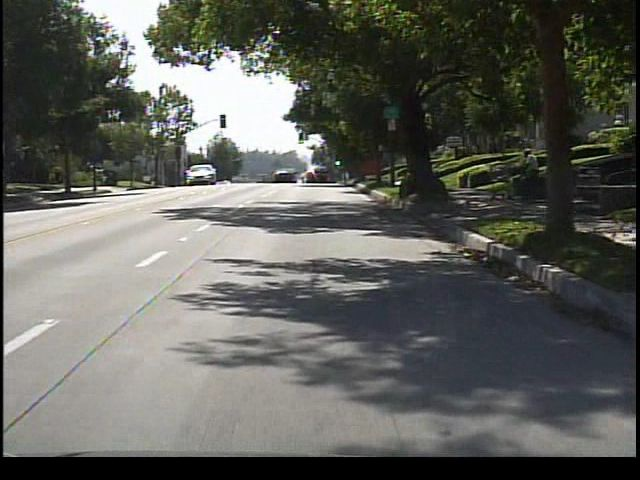person: (517, 145, 546, 203)
